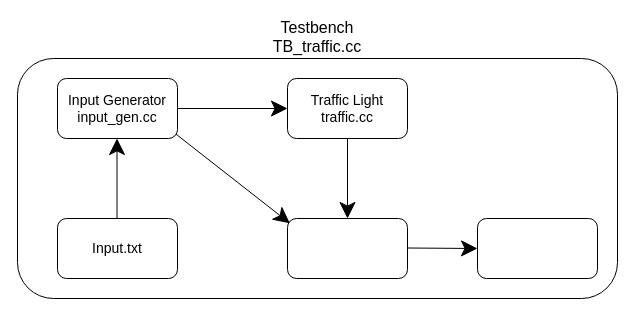
The diagram is 635 pixels wide and 316 high, and some of its shapes have lost their labels. The centre of each missing label's shape, as x and y in pixels:
"Monitor monitor.cc" belongs at (347,248).
"Output.txt" belongs at (537,248).
